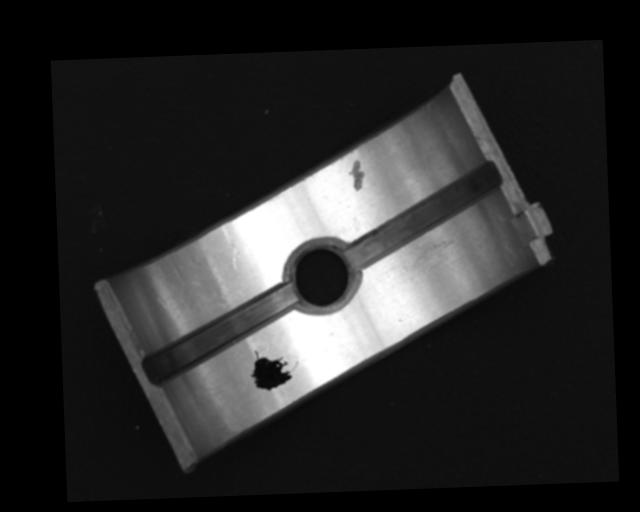blot: (248, 348, 298, 392)
bruise: (348, 158, 366, 193)
gap: (345, 164, 500, 268), (142, 288, 299, 386)
hole: (283, 239, 361, 316)
nick: (220, 224, 243, 270)
scratch: (395, 235, 463, 281)
